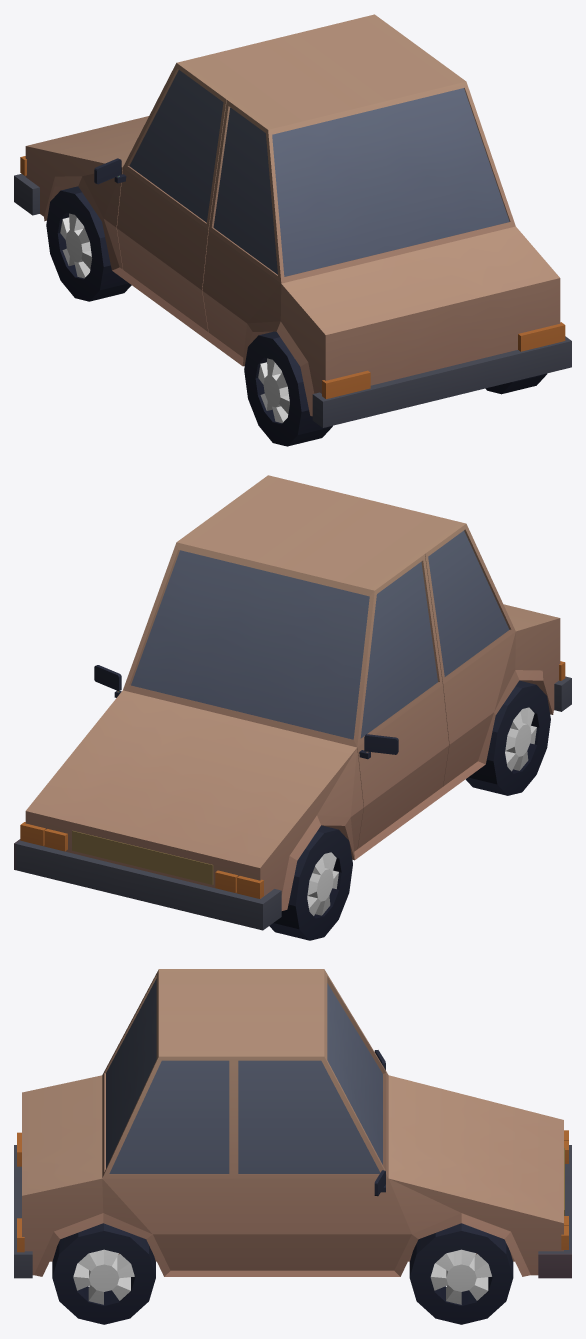
File: Mobil krem.fbx
3 views of the same model, one above another, from view 1: azimuth 30°, elevation 25°; view 2: azimuth 150°, elevation 25°; view 3: azimuth 270°, elevation 25° (orthographic). The views are drawn at different scales.
Visible parts, largest first — view 1: Mobil krem; view 2: Mobil krem; view 3: Mobil krem.
Part boxes in pixels (x1,y1,x2,y2): Mobil krem: (14, 14, 571, 446); Mobil krem: (14, 475, 571, 940); Mobil krem: (14, 969, 571, 1324).
Size of the model in its own units: 1.44 by 1.3 by 2.55.
